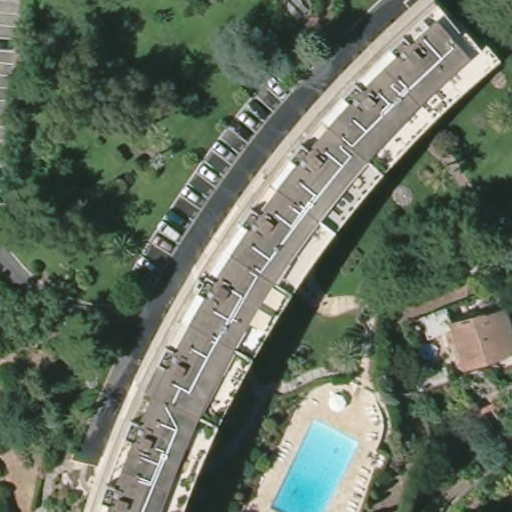pool: (265, 418, 361, 512)
